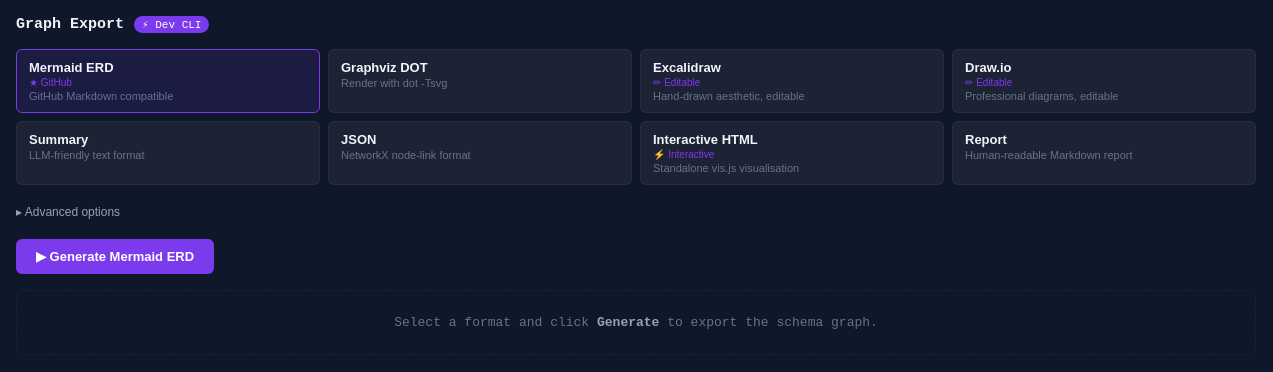
it: GraphExportPanel › format selection › clicking a format marks it active and updates generate button label
Click the button "Graphviz DOT Render with dot -Tsvg" at (384, 68), box x1=328 y1=49 x2=632 y2=113
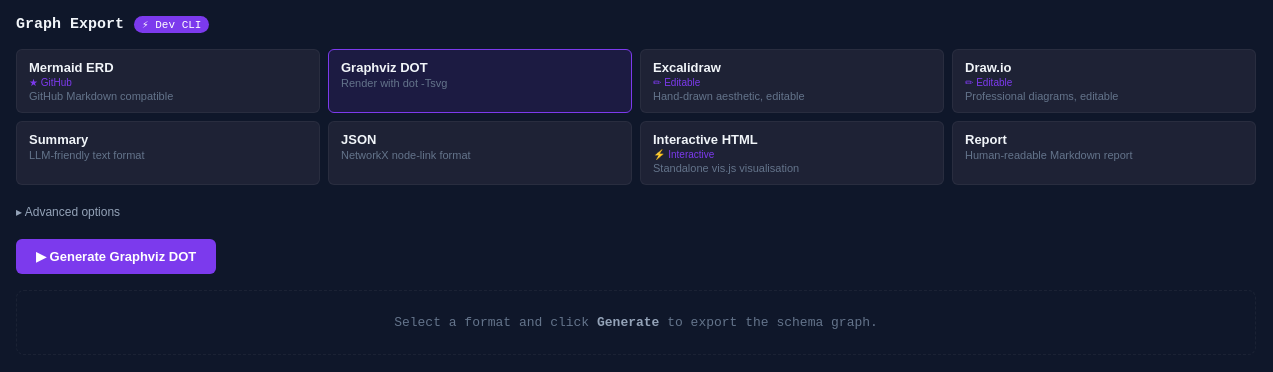
Result: the button "▶ Generate Graphviz DOT" is shown at x1=16 y1=239 x2=216 y2=274
